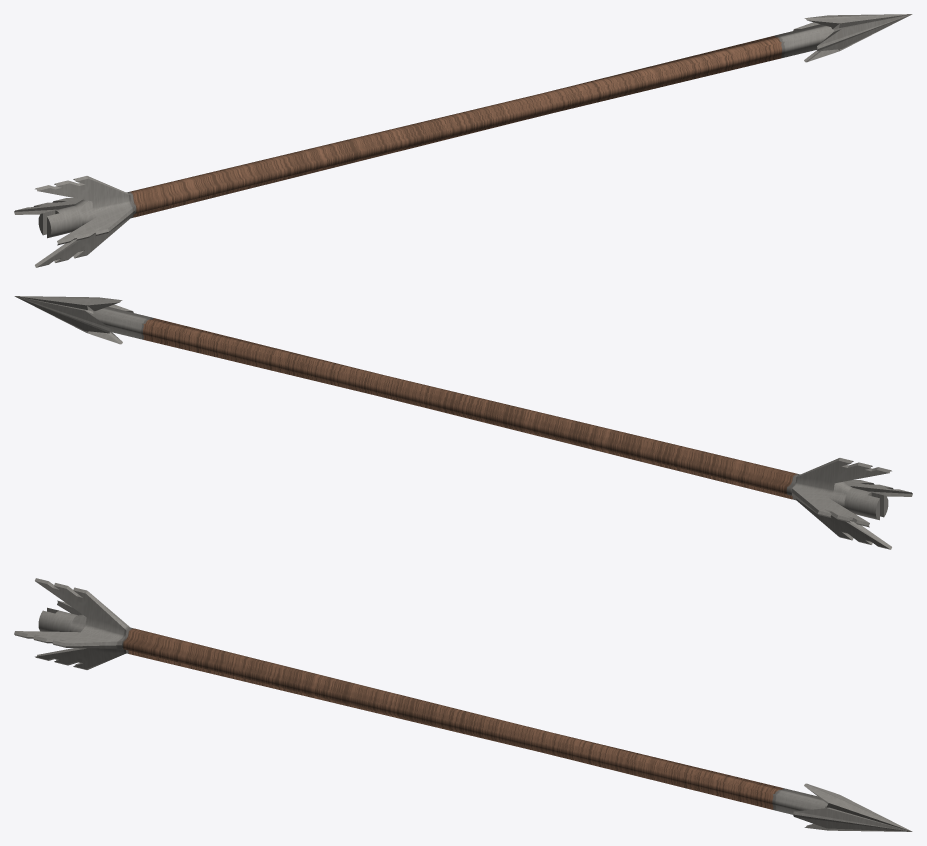
File: arrow.glb
3 renders of one model, top to bottom at view 1: azimuth 30°, elevation 25°; view 2: azimuth 150°, elevation 25°; view 3: azimuth 330°, elevation 25°, orthographic.
Parts seen in each view (by area): view 1: pCylinder1; view 2: pCylinder1; view 3: pCylinder1.
Boxes of the visible parts, x1,y1,x2,y2 form: pCylinder1: (14,14,912,267); pCylinder1: (14,296,912,549); pCylinder1: (14,578,912,831).
Bounding box in the file's own units: 1.99 × 0.1731 × 0.1731.
Materials: 1 (1 with a texture image).
